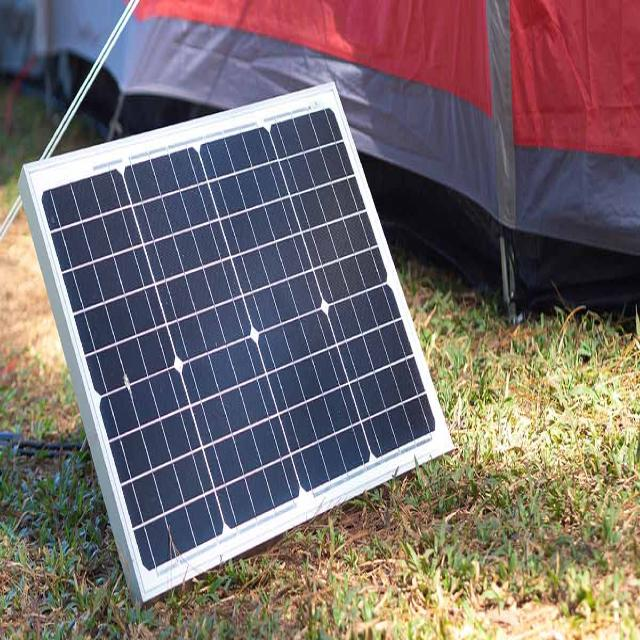clean-solar-panel: (329, 305, 343, 342)
